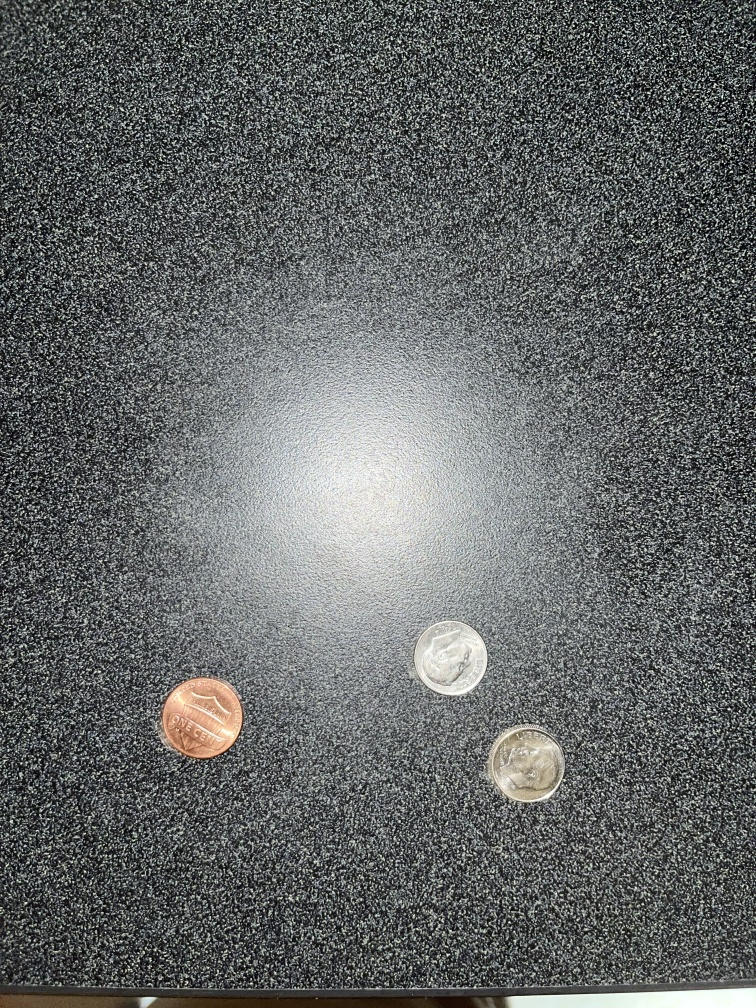dime: (486, 720, 575, 807), (408, 616, 491, 703)
penny: (155, 673, 248, 766)
